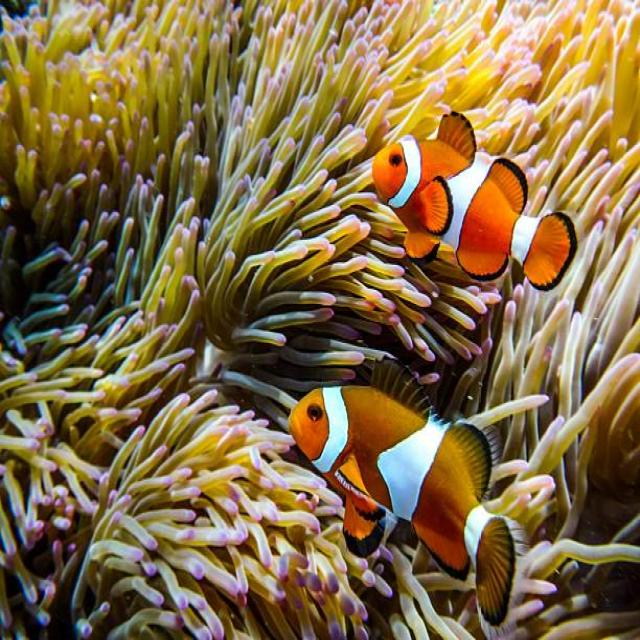ClownFish: (293, 362, 517, 630), (374, 110, 578, 296)
